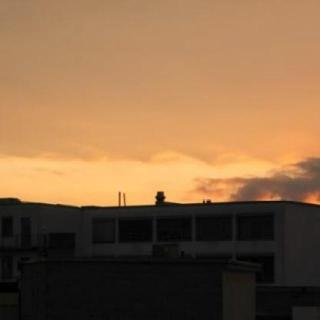Altostratus: (8, 0, 320, 199)
